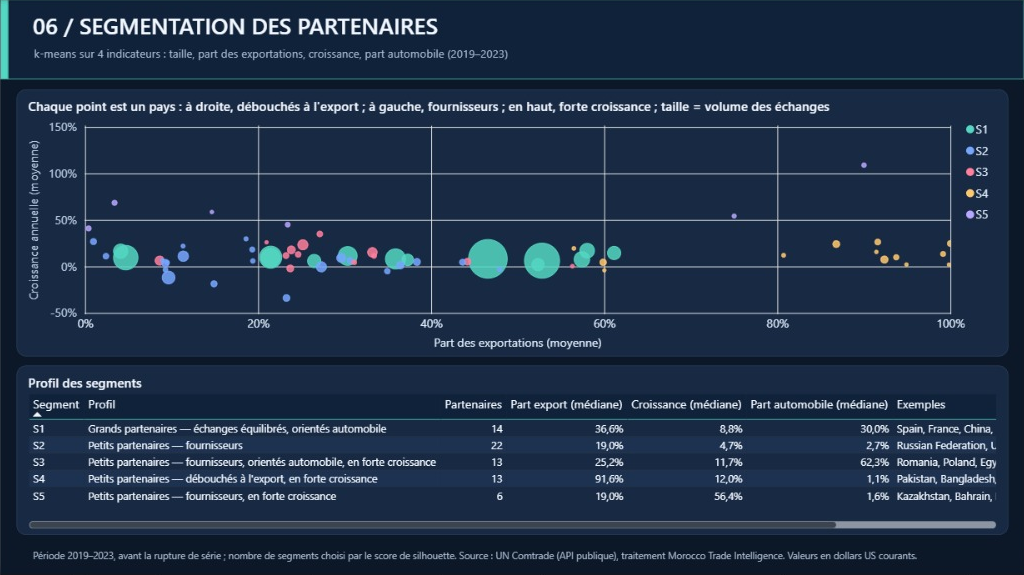

The page's visual inventory and layout, read from the dashboard file:
{"tool":"powerbi","page":{"name":"Segmentation","canvas":[1280,720],"ordinal":5},"visuals":[{"type":"shape","box":[0,0,1280,100],"z":100},{"type":"shape","box":[0,0,10,100],"z":200},{"type":"textbox","box":[40,14,1100,44],"z":300},{"type":"textbox","box":[42,58,1180,30],"z":400},{"type":"textbox","box":[40,684,1200,28],"z":500},{"type":"scatterChart","title":"Chaque point est un pays : à droite, débouchés à l''export ; à gauche, fournisseurs ; en haut, forte croissance ; taille = volume des échanges","fields":{"Category":["mart_partner_segments.partner_name"],"Series":["mart_partner_segments.segment_code"],"Size":["mart_partner_segments.Commerce moyen (USD)"],"X":["mart_partner_segments.Part des exportations (moyenne)"],"Y":["mart_partner_segments.Croissance annuelle (moyenne)"]},"box":[20,112,1240,334],"z":600},{"type":"tableEx","title":"Profil des segments","fields":{"Values":["mart_segment_profiles.segment_code","mart_segment_profiles.segment_label","mart_segment_profiles.partner_count","mart_segment_profiles.median_export_share","mart_segment_profiles.median_growth_rate","mart_segment_profiles.median_automotive_export_share","mart_segment_profiles.example_partners"]},"box":[20,458,1240,212],"z":700}]}

Visuals, with their boxes in screenshot pixels (x1, y1, x2, y2), scaled from the page's 1280x720 canvas onto the 1024x575 screenshot:
shape: bbox=[0, 0, 1023, 80]
shape: bbox=[0, 0, 8, 80]
textbox: bbox=[32, 11, 912, 46]
textbox: bbox=[34, 46, 978, 70]
textbox: bbox=[32, 546, 992, 569]
"Chaque point est un pays : à droite, débouchés à l''export ; à gauche, fournisseurs ; en haut, forte croissance ; taille = volume des échanges" scatterChart: bbox=[16, 89, 1008, 356]
"Profil des segments" tableEx: bbox=[16, 366, 1008, 535]
